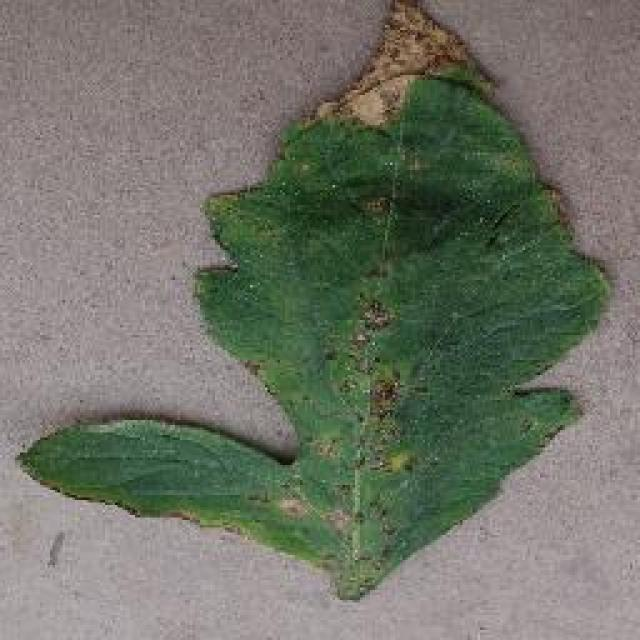Tomato bacterial spot leaf: (29, 3, 609, 595)
